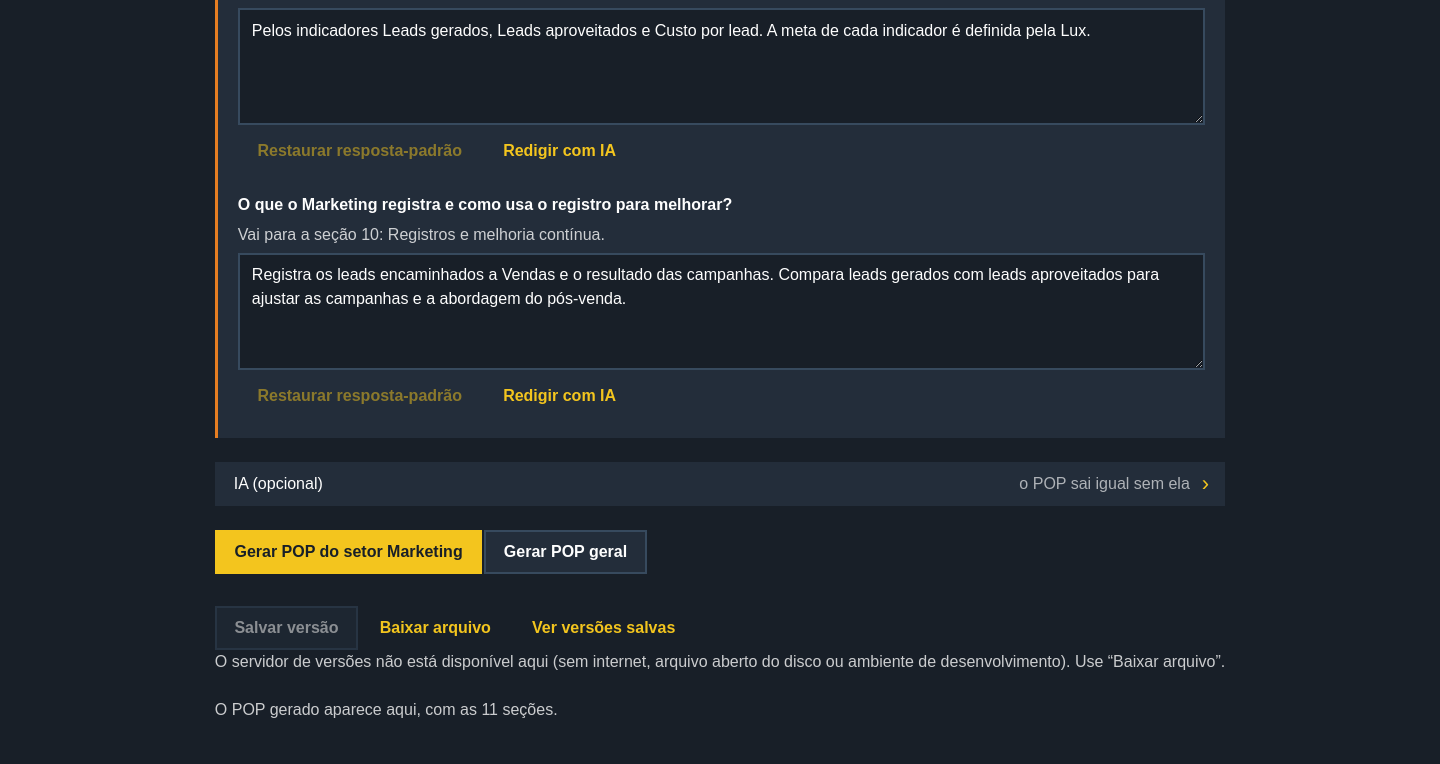
Test: redação com IA na tela POP › as duas seções da IA (redação e limite de gasto) existem no mesmo quadro, com o aviso de provedor externo e o checkbox de ciência
(page scrolled)
Click the button "IA (opcional) o POP sai igual sem ela ›" at [278, 483], box [215,462,1225,506]
(page scrolled)
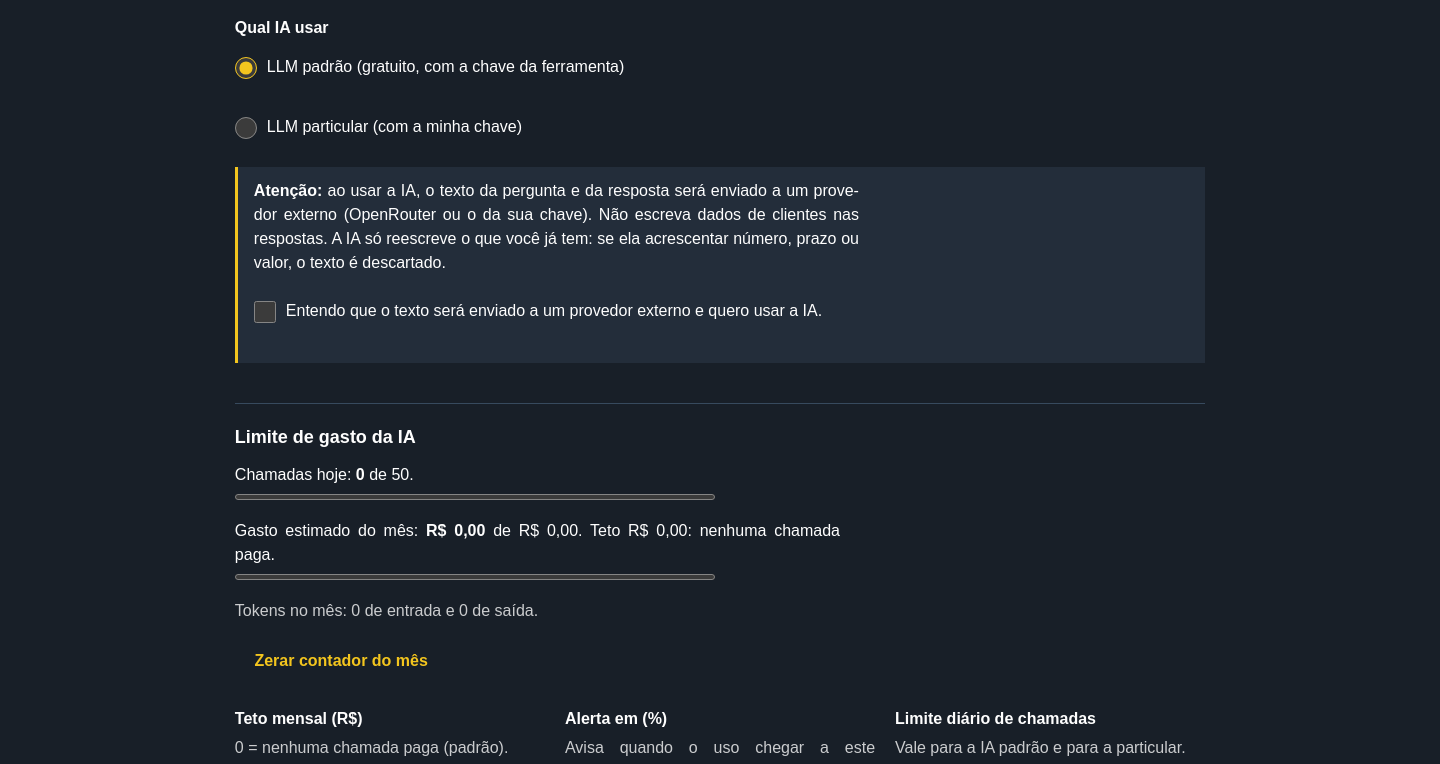
Result: the element that starts with "Atenção:" shows "enviado a um provedor externo" at [254,182,859,271]
Result: the checkbox labelled "Entendo que o texto será enviado" is not checked at [254,301,276,323]
Result: the radio button labelled "LLM padrão (gratuito, com a chave da ferramenta)" is checked at [235,57,257,79]
